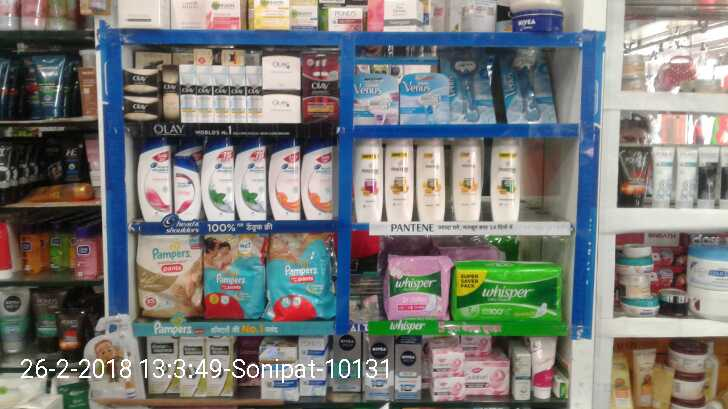venus: (499, 52, 559, 125), (454, 50, 495, 118), (350, 75, 401, 123), (401, 75, 454, 118)
